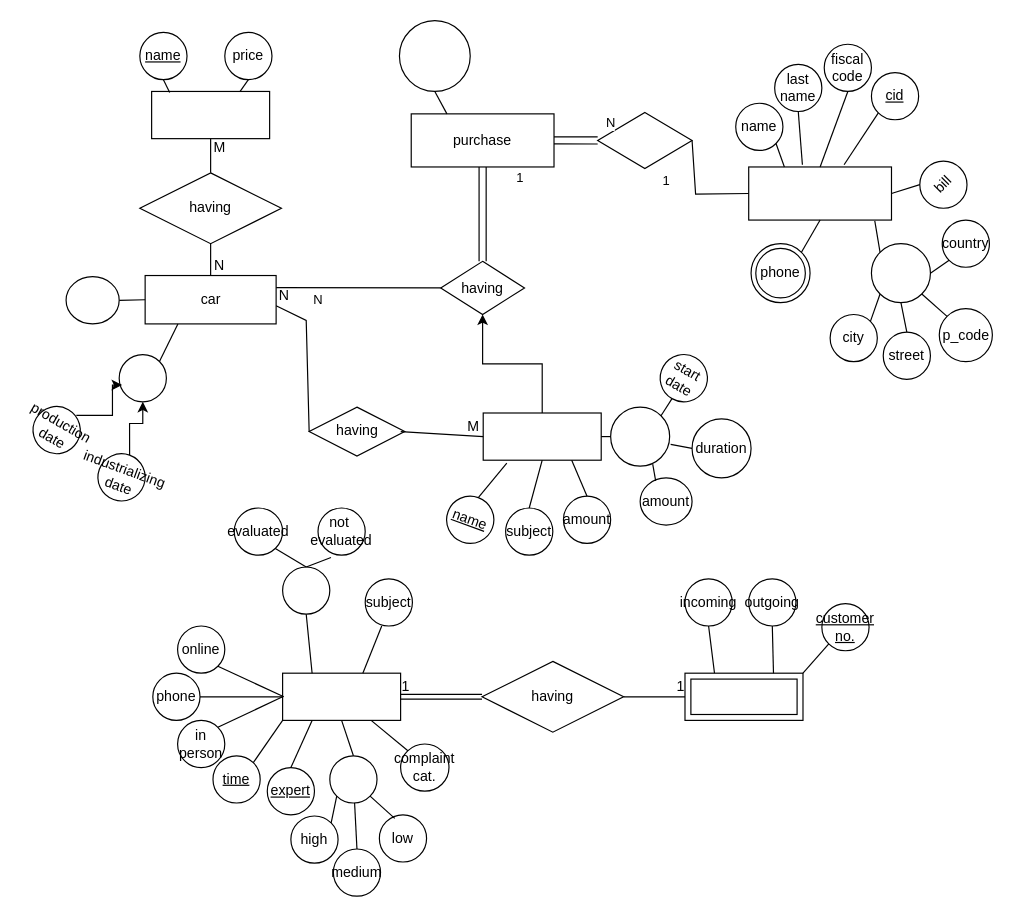
The diagram is 1014 pixels wide and 917 high, and some of its shapes have lost their labels. The centre of each missing label's shape, as x and y in pixels:
"address" belongs at (x=900, y=272).
"after_sale _services" belongs at (x=434, y=55).
"customer" belongs at (x=819, y=193).
"date" belongs at (x=142, y=377).
"do" belongs at (x=644, y=140).
"priority" belongs at (x=353, y=779).
"responsivness" belongs at (x=341, y=696).
"service" belongs at (x=541, y=436).
"situation" belongs at (x=305, y=590).
"SMS announcement" belongs at (x=743, y=696).
"trim and peripheral" belongs at (x=210, y=114).
"VIN" belongs at (x=92, y=300).
"warranty" belongs at (x=639, y=436).
